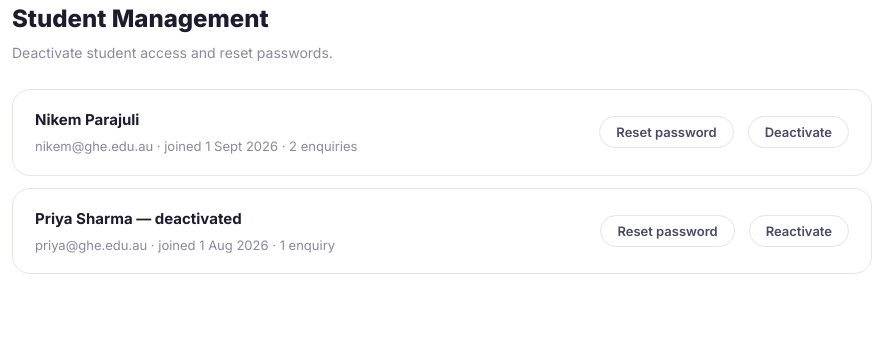
shows an error when deactivate fails
Expected: the text "Nikem Parajuli" is shown, [35,110,139,129]
Click the button "Deactivate" at (798,132), box [748,116,849,148]
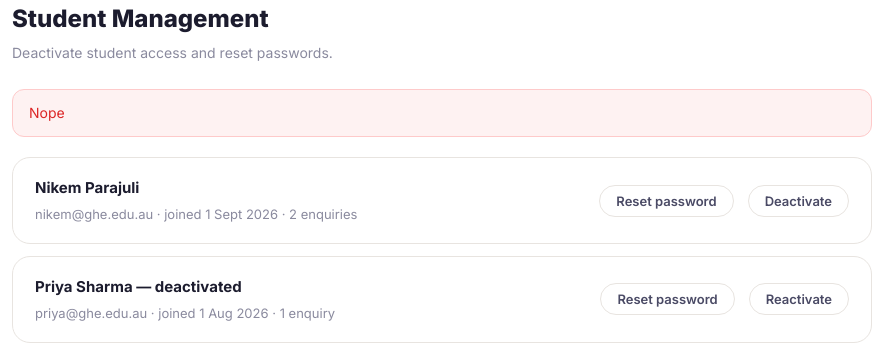
Result: the message reads "Nope" at [29,104,65,121]
